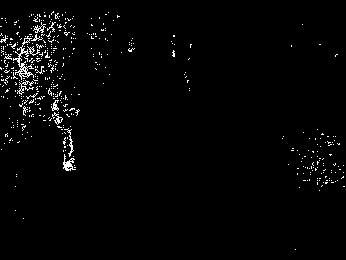person: (51, 92, 78, 173)
